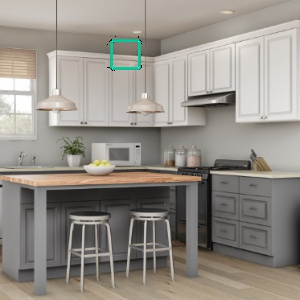square: (106, 36, 144, 71)
